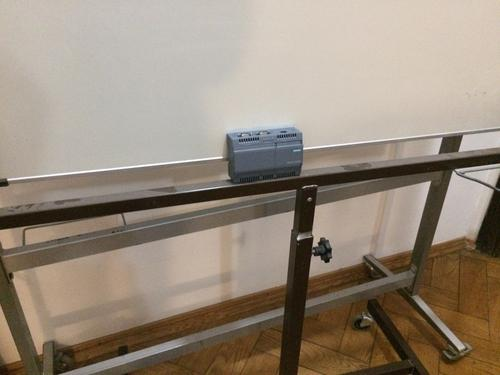iot2000: (226, 127, 304, 185)
